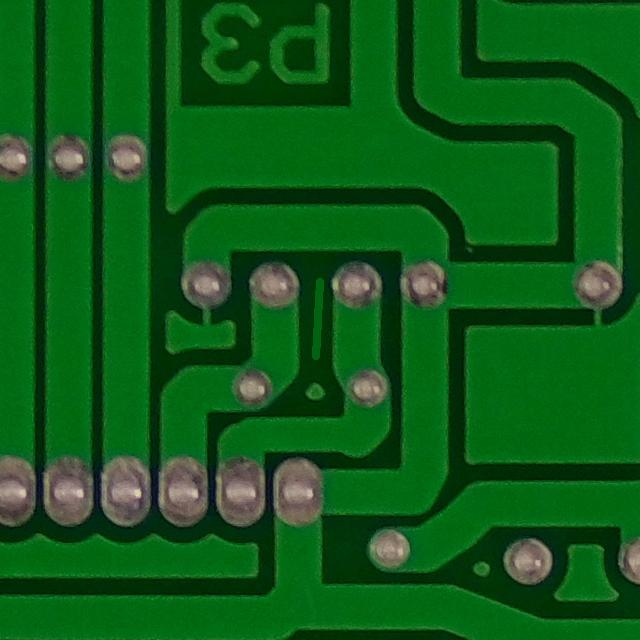spurious_copper: (302, 271, 339, 370)
